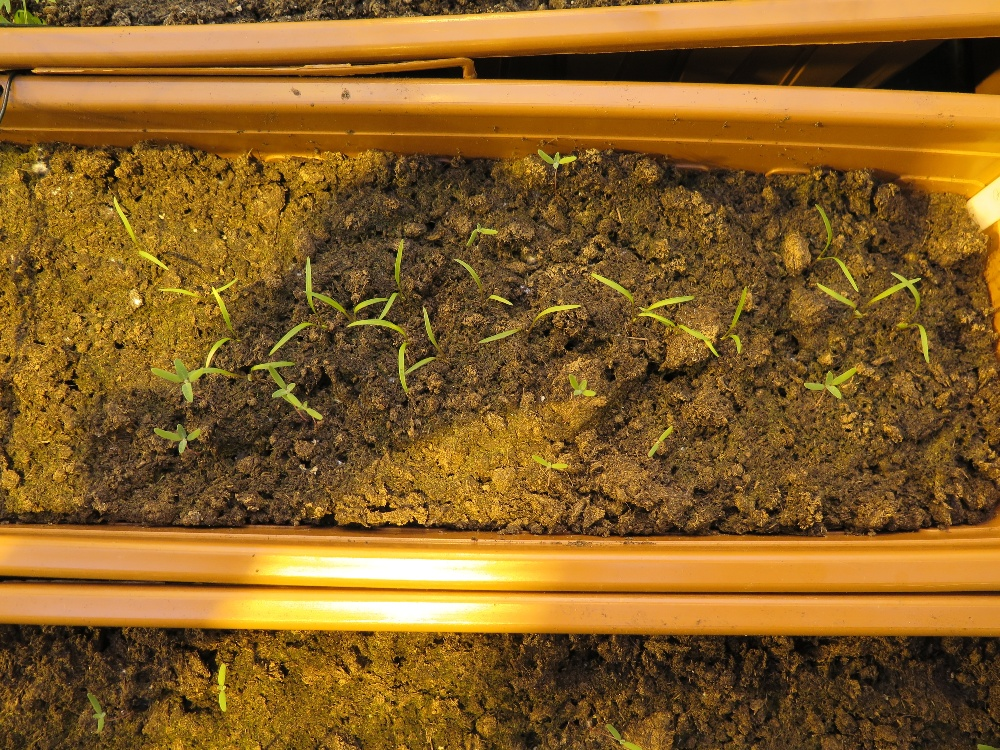crop: (368, 242, 446, 356), (259, 251, 334, 361), (800, 201, 882, 301), (800, 267, 932, 322), (107, 197, 184, 288), (587, 274, 696, 333), (382, 331, 459, 413), (675, 279, 752, 361), (464, 306, 587, 349), (889, 267, 939, 372), (443, 249, 521, 315), (296, 279, 393, 326), (191, 281, 239, 342), (198, 324, 241, 376), (248, 345, 293, 379)
weed: (802, 356, 866, 404), (150, 417, 216, 456), (77, 683, 118, 738), (630, 415, 682, 458), (198, 658, 234, 715), (530, 449, 591, 476), (596, 715, 641, 749)
